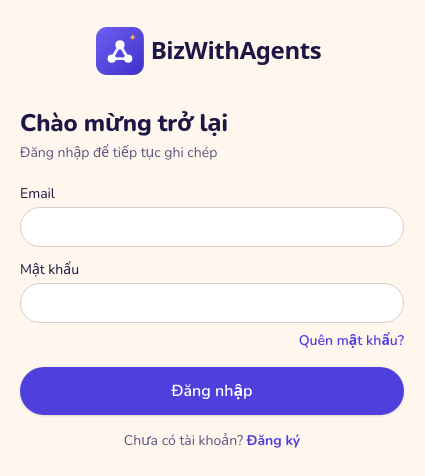
Scenario: LoginPage › email sai định dạng → báo cạnh ô, không gọi API
Type "khong-phai-email" into the field labelled "Email" at (212, 227), box [20, 207, 404, 247]
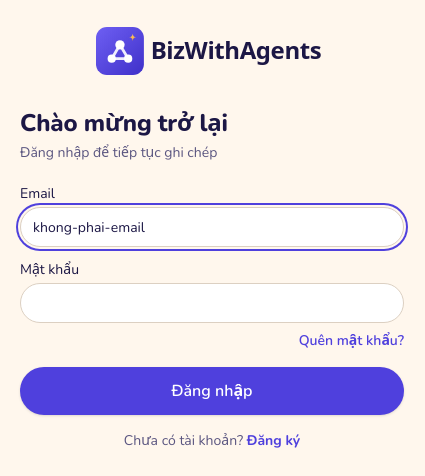
Type "x" into the password field labelled "Mật khẩu" at (212, 303), box [20, 283, 404, 323]
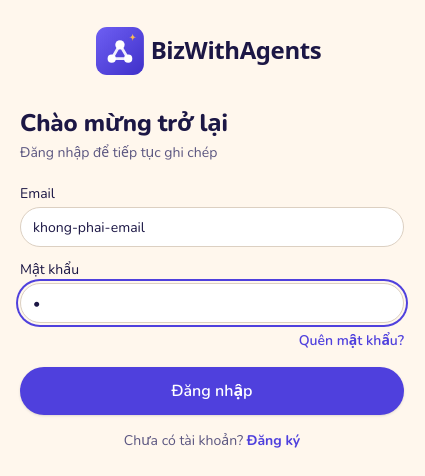
Click the button with test id "login-submit" at (212, 391), box [20, 367, 404, 415]
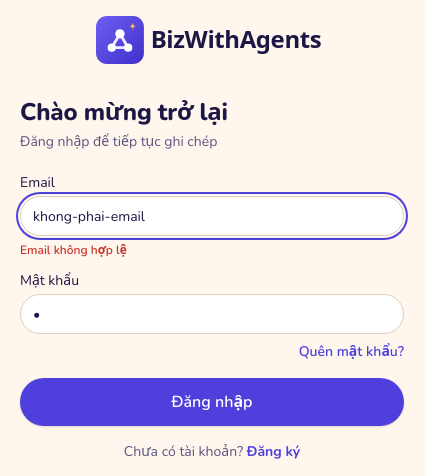
expect the text "Email không hợp lệ" is shown: met, box [20, 242, 127, 258]
